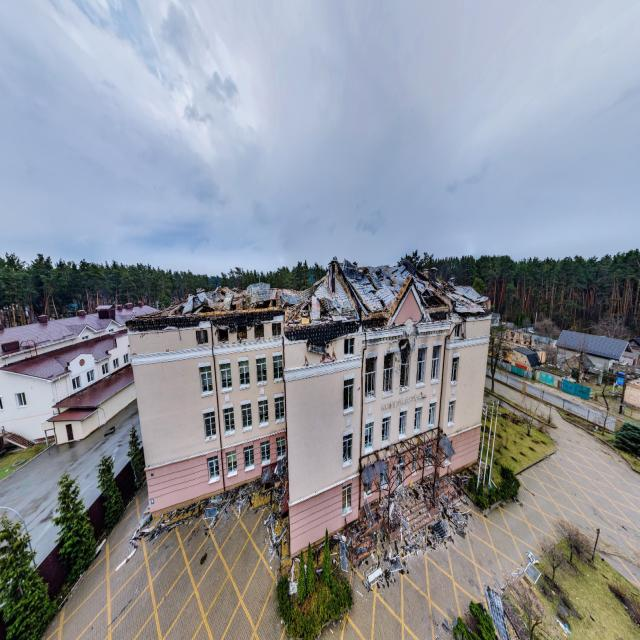broken_window: (364, 354, 376, 399), (382, 351, 393, 396), (199, 363, 213, 396), (202, 408, 216, 441), (342, 376, 354, 414), (416, 345, 427, 386), (219, 361, 232, 392), (207, 455, 220, 484), (238, 358, 250, 389), (342, 431, 352, 467), (256, 356, 267, 385), (243, 445, 254, 472)
building: (282, 255, 493, 568), (128, 300, 286, 516), (0, 311, 131, 450)
